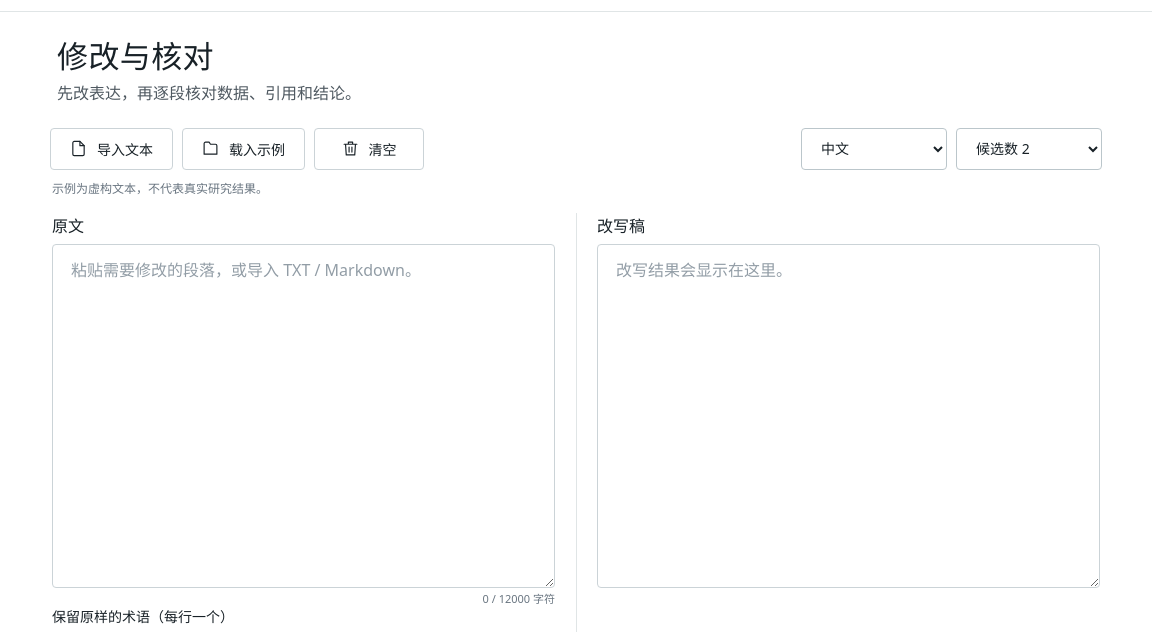
Test: explains known audit codes in Chinese and identifies rejected candidate checks
Step 1. Type "试验重复5次。" into the text box labelled "原文" → (304,416), box [52,244,555,588]
(page scrolled)
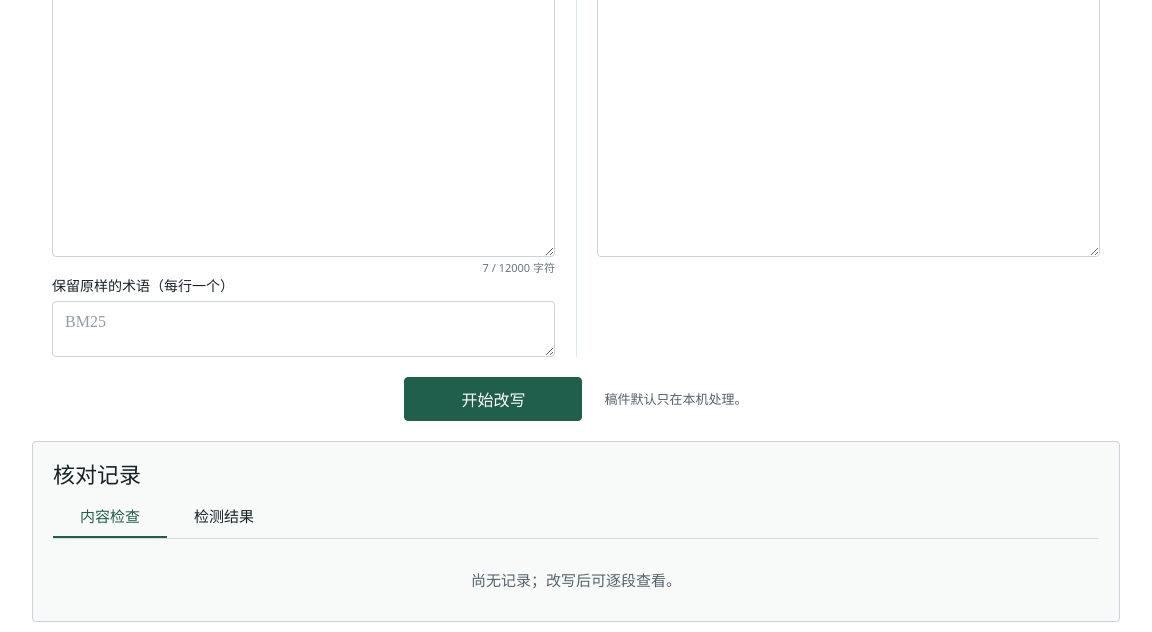
Step 2. Click the button "开始改写" → (494,399), box [404,377,582,421]
(page scrolled)
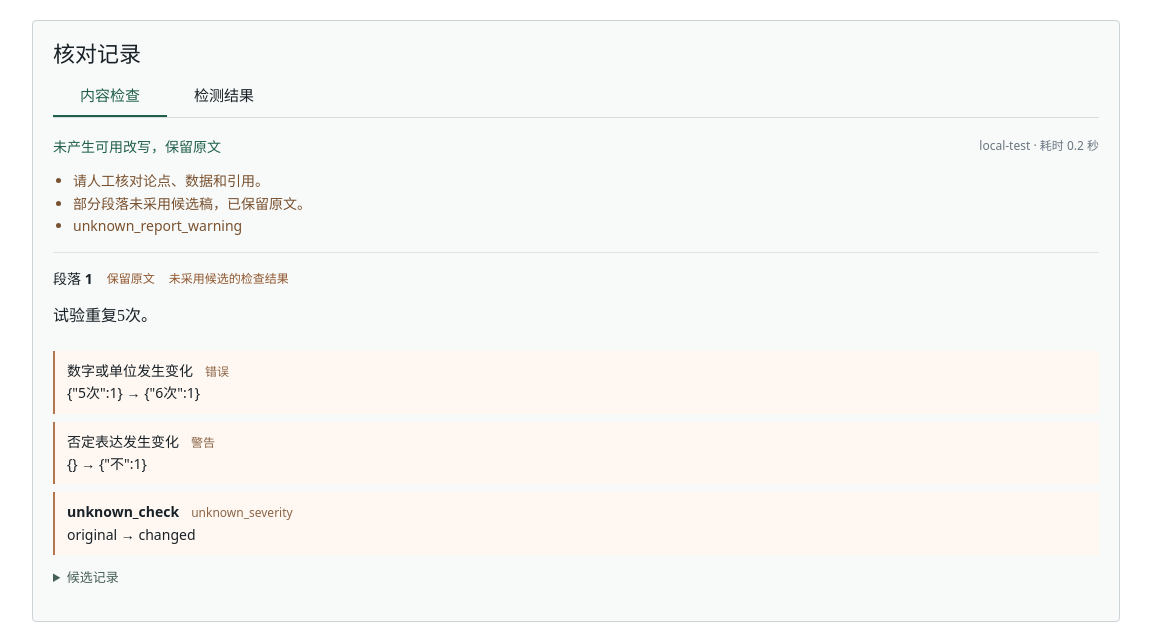
Check: the text "数字或单位发生变化" is shown, box [67,361,193,380]
Check: the text "否定表达发生变化" is shown, box [67,432,179,450]
Check: the text "错误" is shown, box [205,363,229,380]
Step 3. Click the heading "候选记录" → (93,577), box [67,568,119,586]
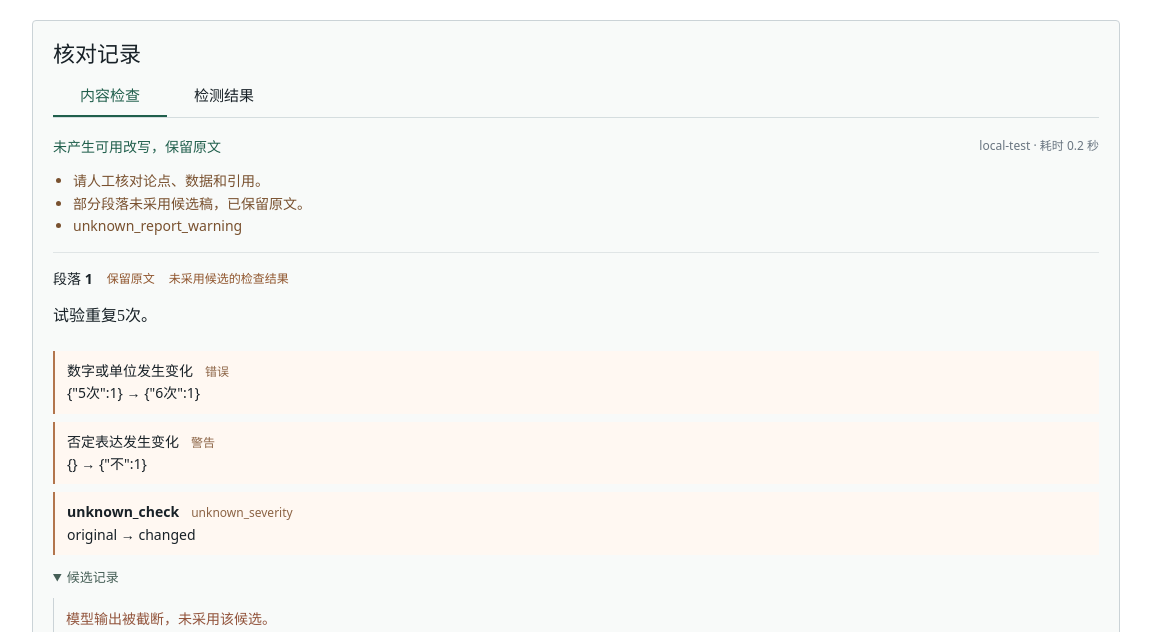
Check: the text "unknown_check" is shown, box [67,502,179,521]
Check: the text "unknown_severity" is shown, box [179,504,293,521]
Check: the text "模型输出被截断，未采用该候选。" is shown, box [66,609,276,628]
